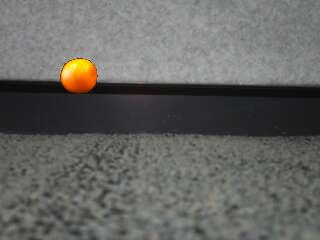Orange: (60, 57, 98, 95)
